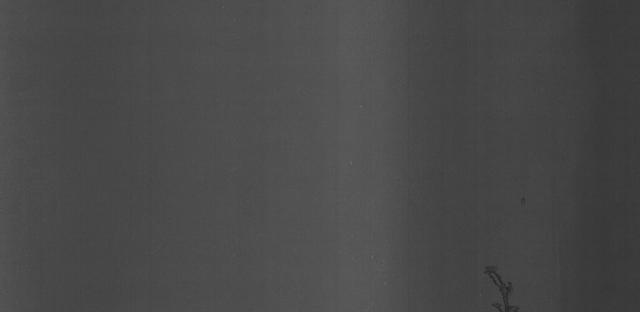water_spot: (470, 257, 523, 312)
